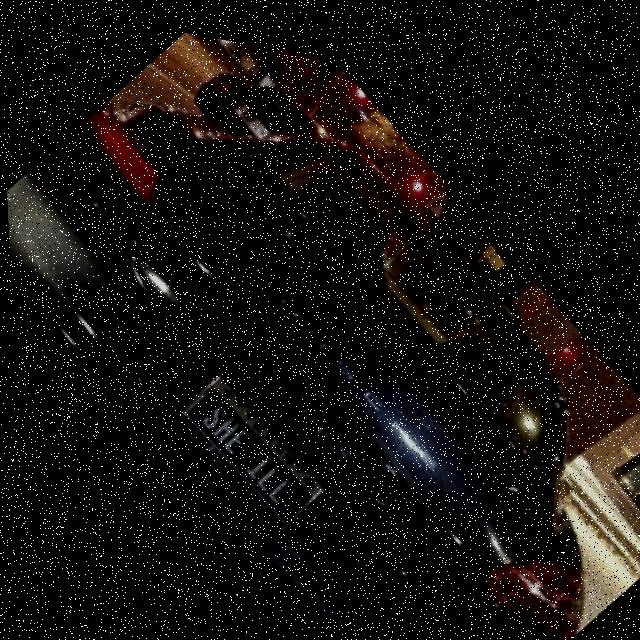license_plate: (163, 352, 332, 537)
